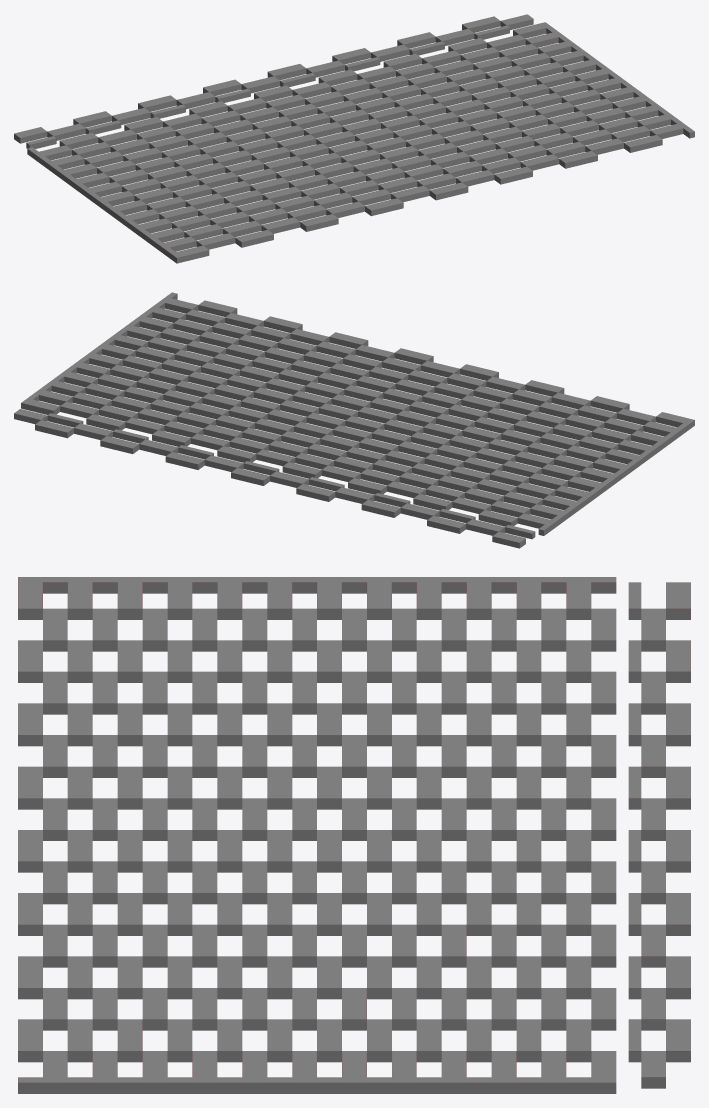
Rendered from plataformas-0.obj.
The picture shows the model from 3 angles, top to bottom: view 1: azimuth 30°, elevation 25°; view 2: azimuth 150°, elevation 25°; view 3: azimuth 270°, elevation 25°; orthographic projection. The views are drawn at different scales.
Parts seen in each view (by area): view 1: plataformas-0; view 2: plataformas-0; view 3: plataformas-0.
Part boxes in pixels (x1=…): plataformas-0: x1=14, y1=14, x2=694, y2=263; plataformas-0: x1=14, y1=292, x2=694, y2=548; plataformas-0: x1=18, y1=577, x2=690, y2=1093.
Bounding box in the file's own units: 9.6 × 0.1 × 5.4.
1 material, 1 textured.
